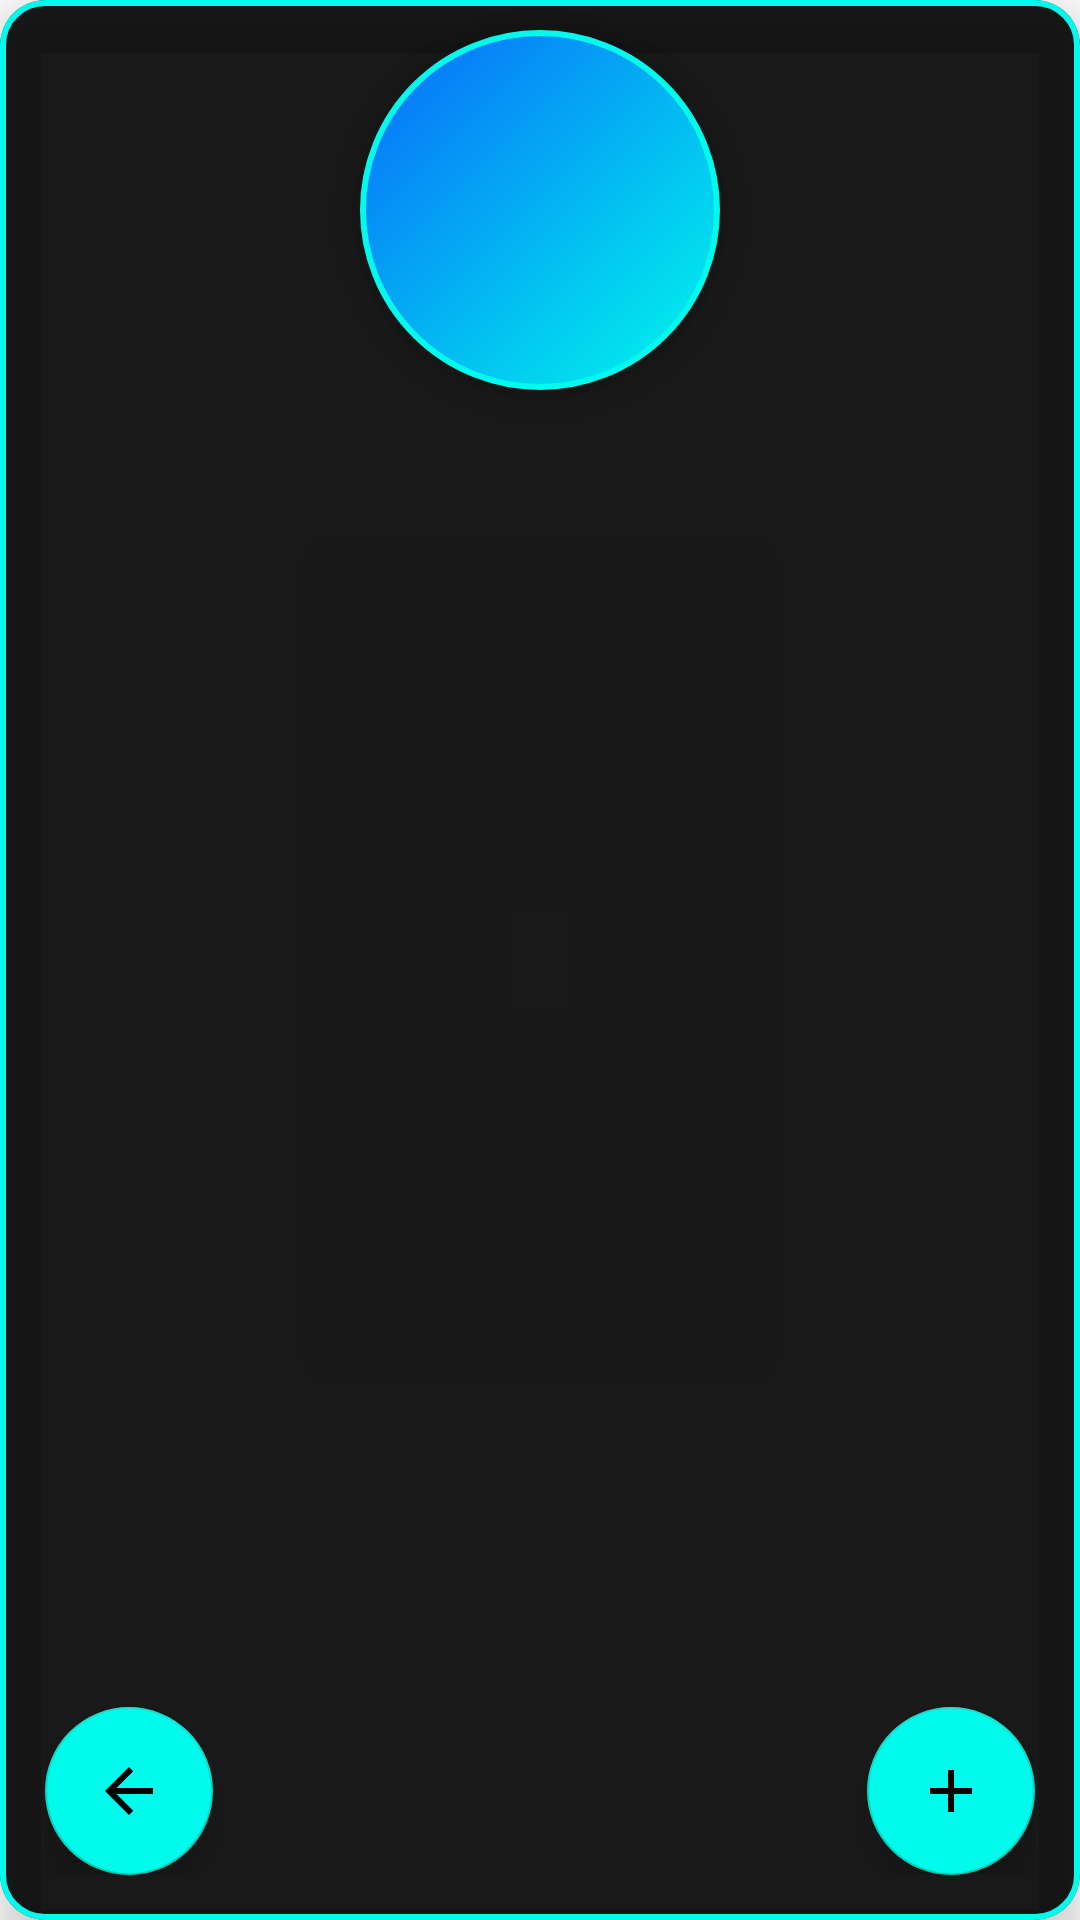

Where to tap for icons on this 1080w x 1920h app screen, as point (x, y):
add: point (951, 1791)
back arrow: point (129, 1791)
